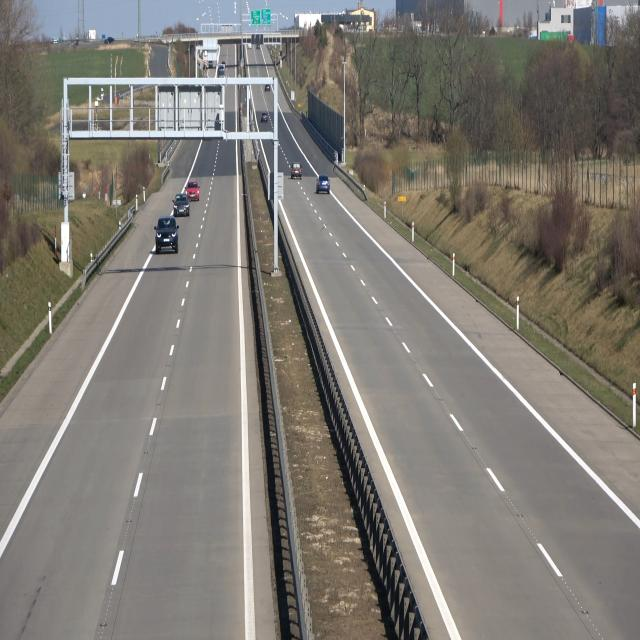Car: (154, 216, 180, 255), (173, 194, 190, 218), (184, 181, 201, 201), (316, 174, 331, 195), (290, 162, 302, 180), (261, 111, 268, 123)
